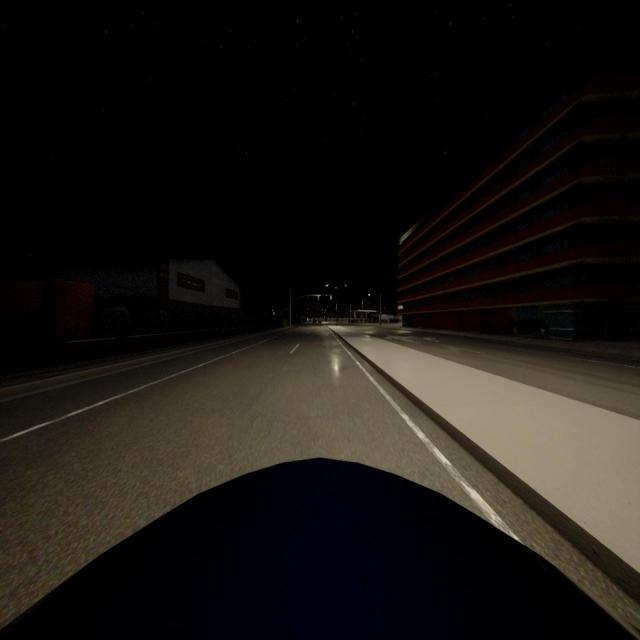Vehicle: (0, 460, 640, 640), (318, 320, 322, 325), (313, 320, 316, 324)
traffic_light: (330, 295, 332, 300), (318, 296, 319, 300)
